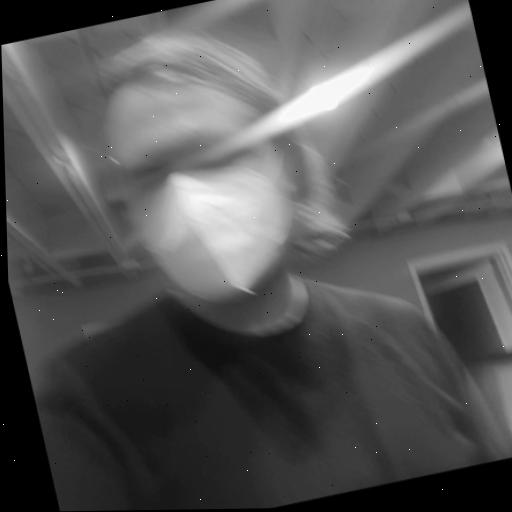mask: (76, 0, 361, 317)
